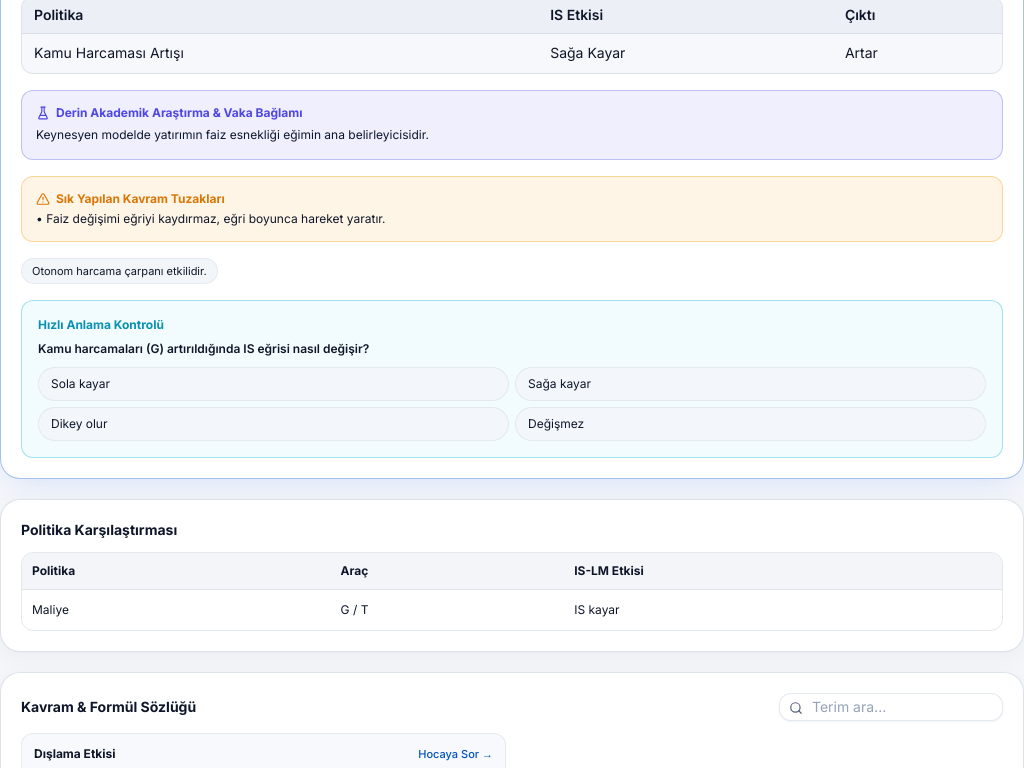
Test: Redesigned EconNotes Çalışma Stüdyosu › renders SummaryWorkspace chapters, LaTeX/tables, and interactive mini-checkpoint
The width and height of the screenshot is (1024, 768).
(page scrolled)
Expected: the heading "Politika Karşılaştırması" is shown, [21,521,177,538]
Expected: the text "Dışlama Etkisi" is shown, [34,746,116,762]
Answer inline checkpoint mini-question
What coordinates should you click on to do the following:
click the button "Sağa kayar"
I would click on:
 (560, 384)
Its box is [515,367,986,401].
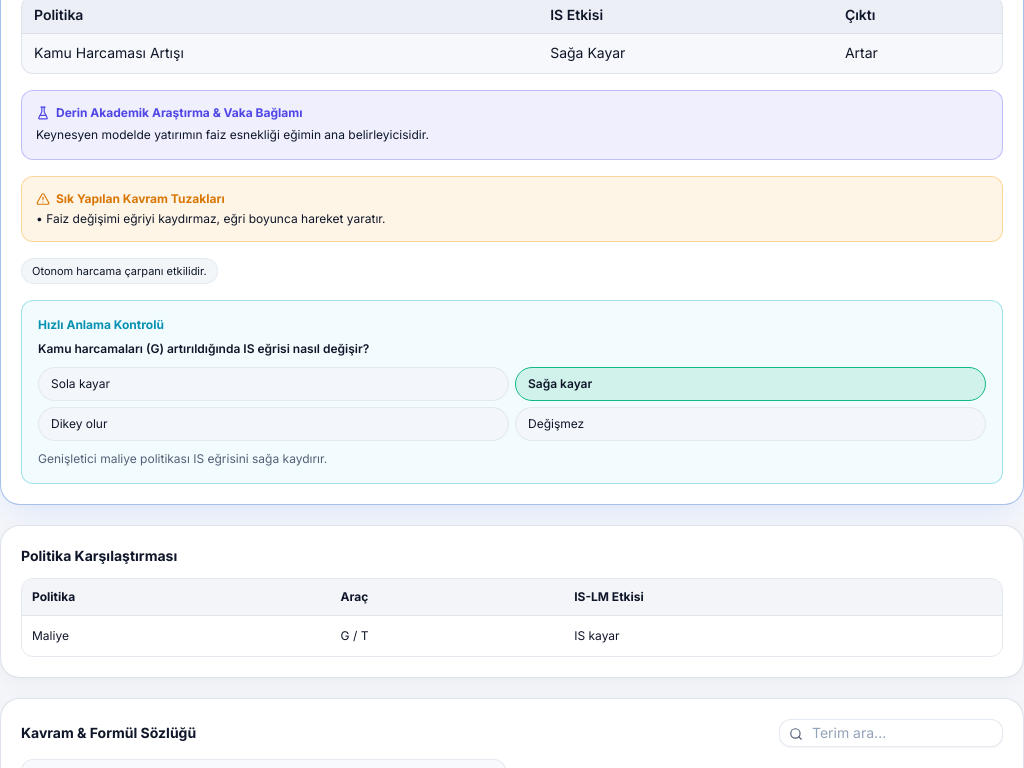
Expected: the text "Genişletici maliye politikası IS eğrisini sağa kaydırır." is shown, [38,451,327,466]
